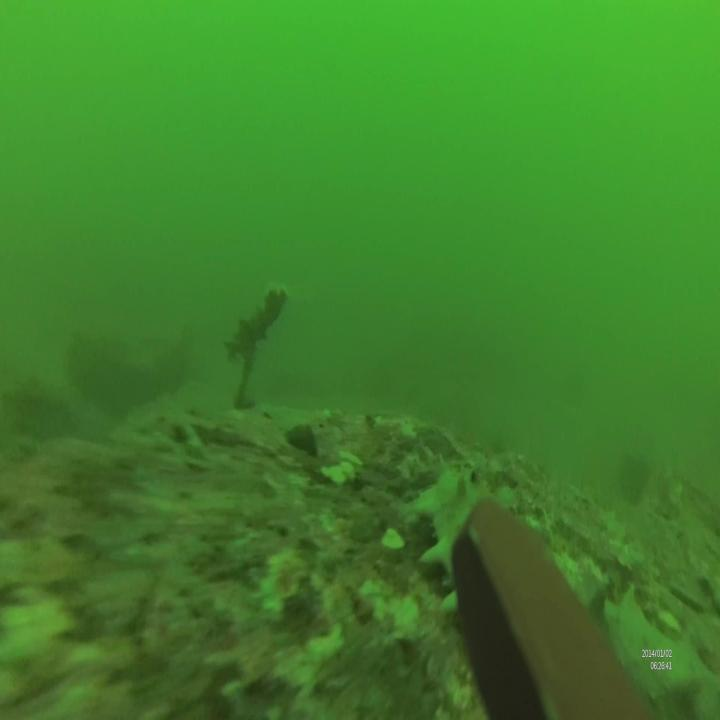holothurian: (411, 457, 720, 720), (220, 281, 292, 367)
